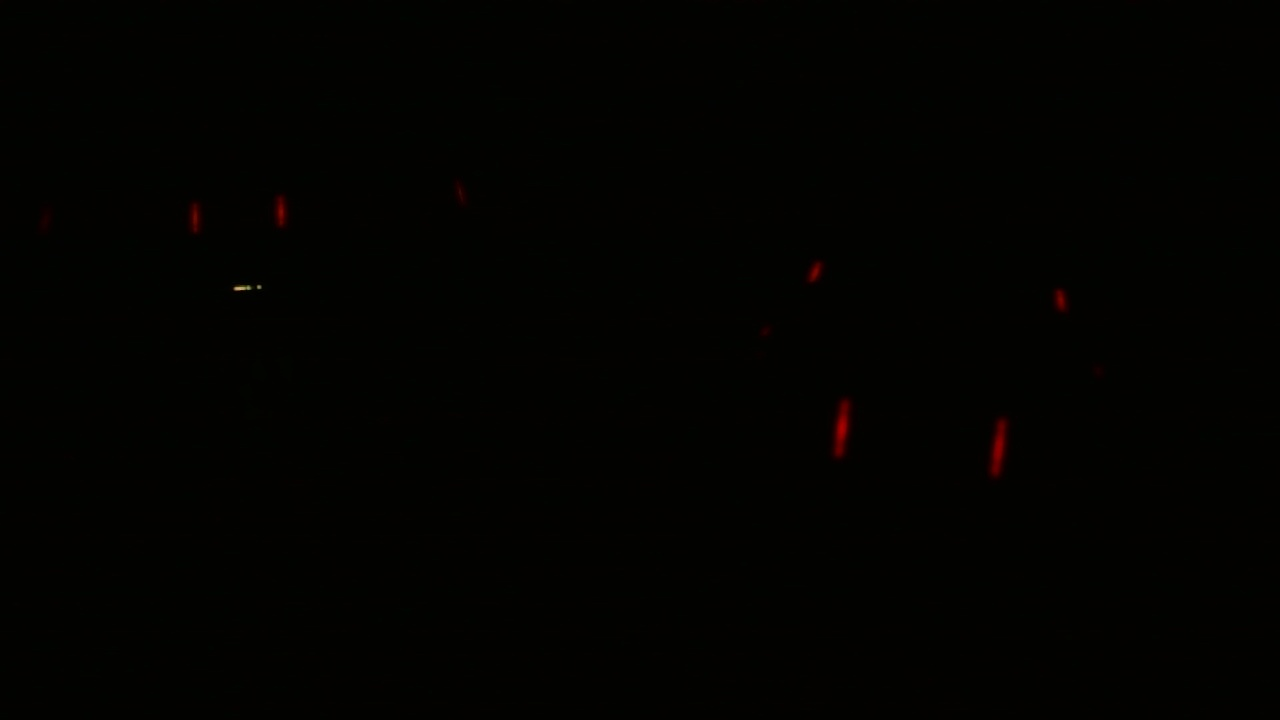pair1: (178, 179, 298, 257)
pair2: (825, 388, 1019, 485)
